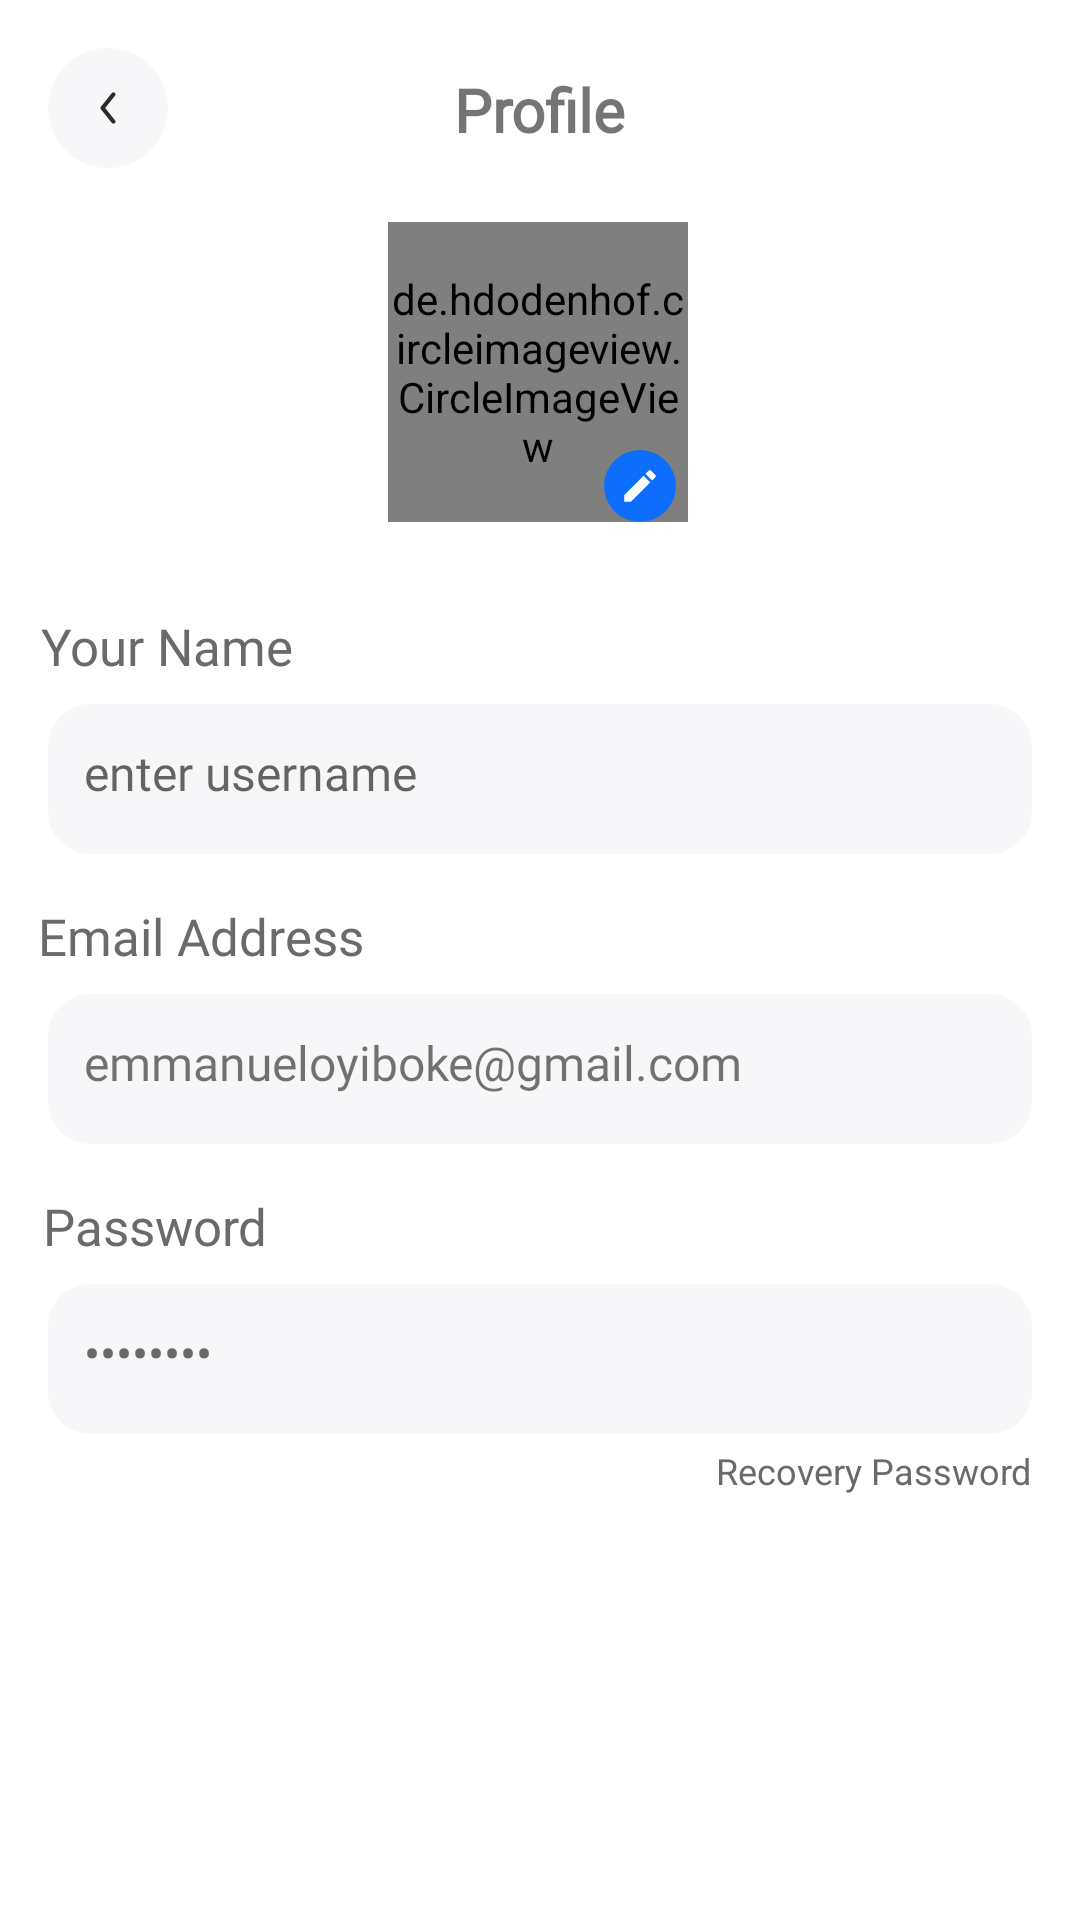

Icons on this 1080px×1920px Android screen, each with the point to tap as (x,y):
Back button: (108,108)
Edit Profile Picture: (640,486)
